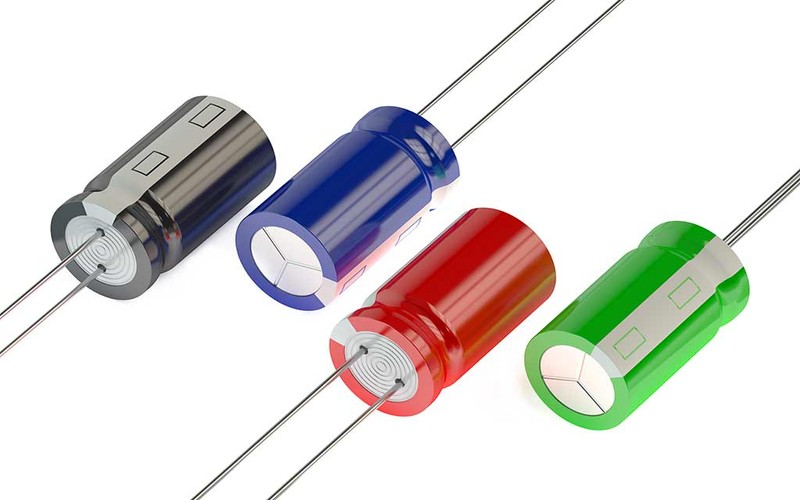Capacitor: (27, 72, 777, 456)
